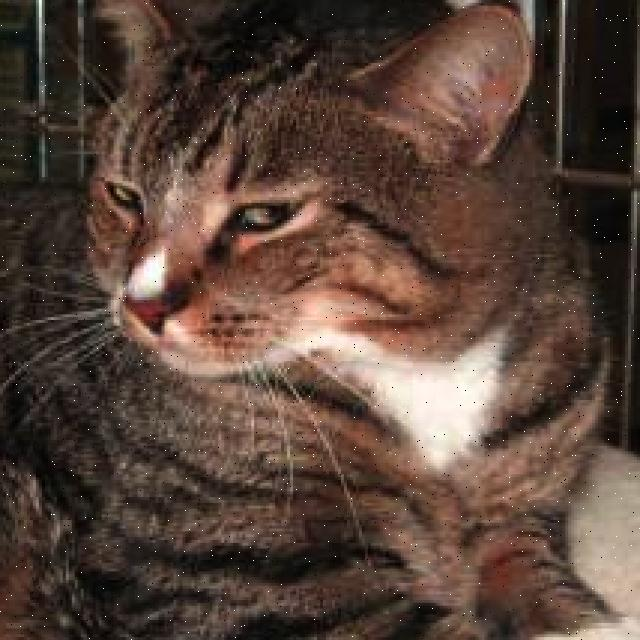Cat: (66, 0, 541, 389)
